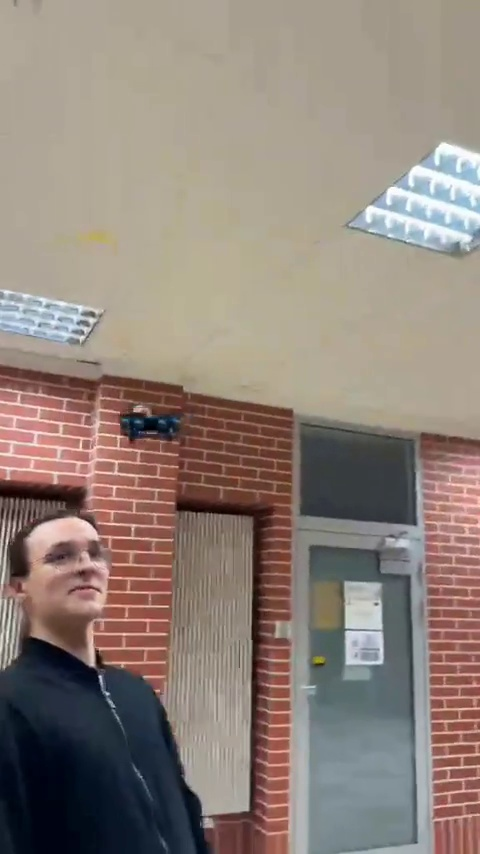drone: (114, 409, 186, 448)
no vest: (0, 508, 216, 851)
